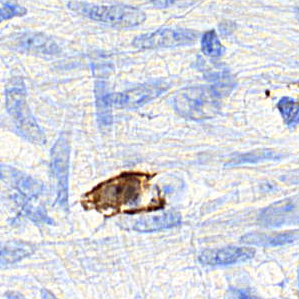Lymphocyte: (81, 167, 166, 215)
